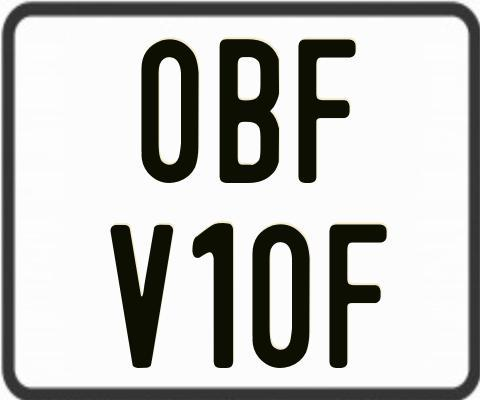0: (138, 38, 200, 182), (251, 223, 311, 368)
1: (192, 221, 234, 368)
B: (220, 37, 285, 183)
F: (296, 36, 358, 183), (329, 222, 390, 369)
V: (109, 223, 171, 369)
